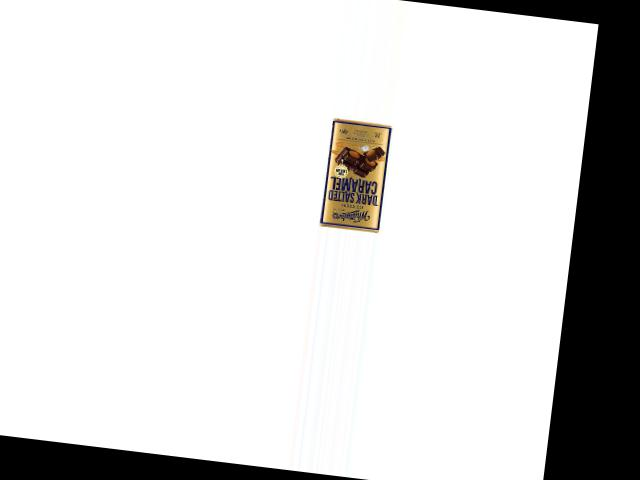chocolate: (315, 115, 394, 232)
